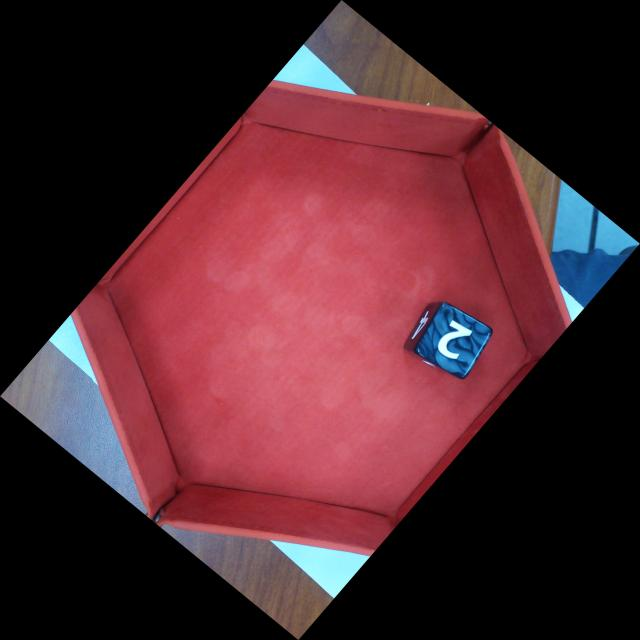dice: (412, 301, 495, 381)
